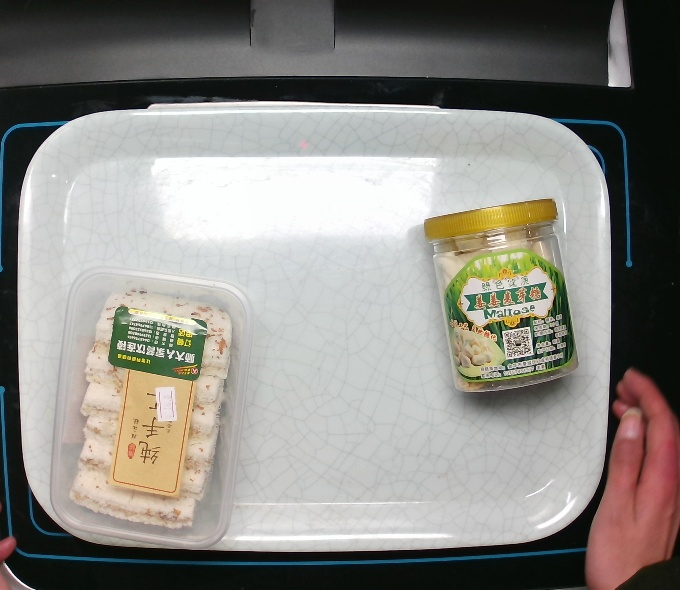wcq-GuiHuaGao: (47, 262, 255, 550)
wcq-MaiYaTang: (418, 195, 583, 398)
